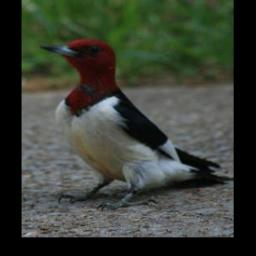Woodpecker: (34, 37, 234, 209)
